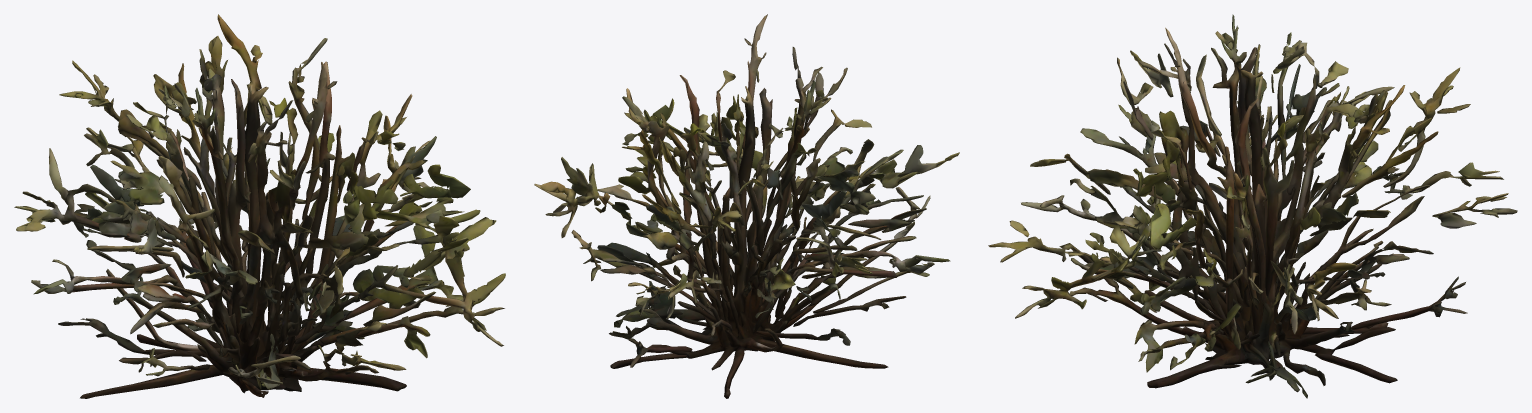
Rendered from nature-bush-wild.glb.
3 views of the same model, side by side, from view 1: azimuth 30°, elevation 25°; view 2: azimuth 150°, elevation 25°; view 3: azimuth 270°, elevation 25° (orthographic). The views are drawn at different scales.
Parts seen in each view (by area): view 1: tripo_node_f966353a-e593-48e3-b716-fbd320865bea; view 2: tripo_node_f966353a-e593-48e3-b716-fbd320865bea; view 3: tripo_node_f966353a-e593-48e3-b716-fbd320865bea.
Boxes of the visible parts, x1,y1,x2,y2 form: tripo_node_f966353a-e593-48e3-b716-fbd320865bea: [14, 14, 505, 398]; tripo_node_f966353a-e593-48e3-b716-fbd320865bea: [534, 14, 959, 398]; tripo_node_f966353a-e593-48e3-b716-fbd320865bea: [988, 14, 1517, 398].
Bounding box in the file's own units: 1.98 × 1.5 × 2.14.
1 material, 1 textured.
